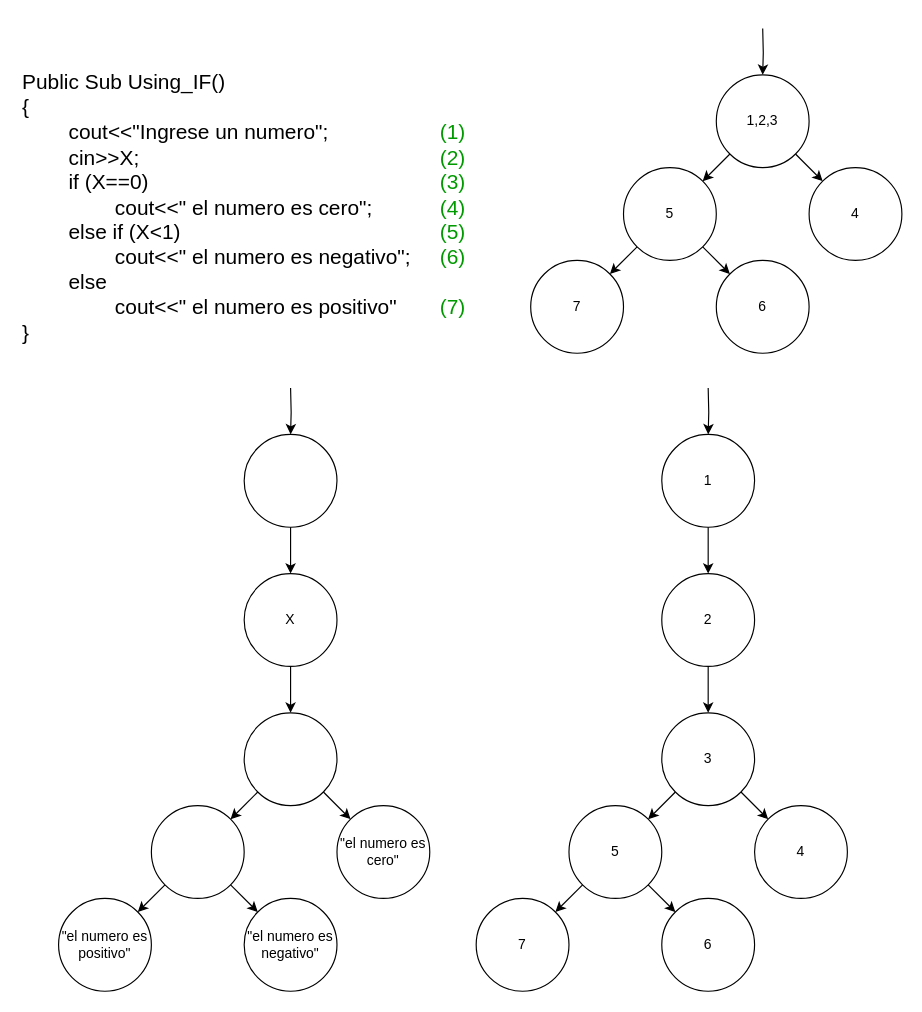
Some shapes in this 922 by 1012 pixel diagram are drawn without their labels. The shapes that lost their labels are listed below. From the top down, each one's centre as x and y in pixels, then its label:
point 290,480: "Ingrese numero"
point 290,759: X == 0
point 197,851: X < 1
